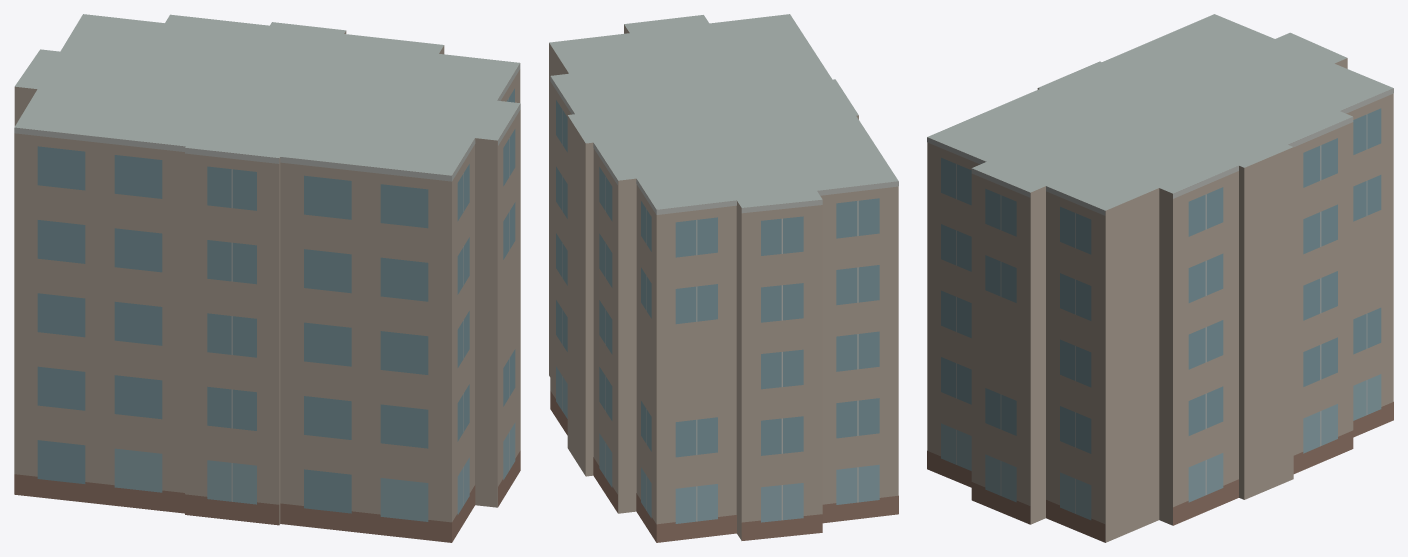
The model's file is survey-upis-32913269.glb.
3 renders of one model, left to right at view 1: azimuth 30°, elevation 25°; view 2: azimuth 150°, elevation 25°; view 3: azimuth 270°, elevation 25°, orthographic. The views are drawn at different scales.
Parts seen in each view (by area): view 1: survey-upis-32913269.tmp; view 2: survey-upis-32913269.tmp; view 3: survey-upis-32913269.tmp.
Part boxes in pixels (left/top/right/bottom): survey-upis-32913269.tmp: left=14, top=14, right=520, bottom=542; survey-upis-32913269.tmp: left=549, top=14, right=898, bottom=542; survey-upis-32913269.tmp: left=927, top=14, right=1393, bottom=542.
Size of the model in its own units: 19.58 by 15.4 by 19.62.
